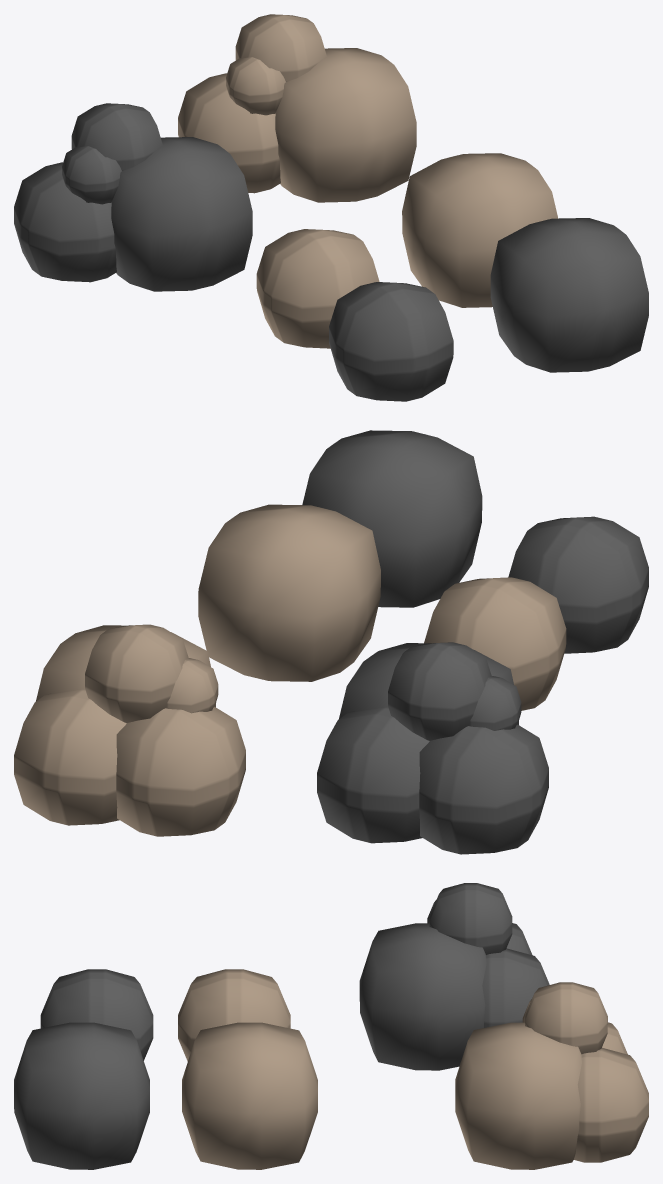
The model's file is rock_solid.fbx.
The picture shows the model from 3 angles, top to bottom: view 1: azimuth 30°, elevation 25°; view 2: azimuth 150°, elevation 25°; view 3: azimuth 270°, elevation 25°; orthographic projection. The views are drawn at different scales.
Visible parts, largest first — view 1: smal_rock10, smal_rock9, big_rock1, big_rock, smal_rock2, smal_rock; view 2: smal_rock9, smal_rock10, big_rock, big_rock1, smal_rock2, smal_rock; view 3: smal_rock9, smal_rock10, big_rock1, big_rock, smal_rock2, smal_rock.
Boxes of the visible parts, left/top/right/bottom form: smal_rock10: left=14, top=103, right=252, bottom=291; smal_rock9: left=178, top=14, right=416, bottom=202; big_rock1: left=490, top=218, right=648, bottom=372; big_rock: left=402, top=153, right=558, bottom=307; smal_rock2: left=329, top=282, right=453, bottom=401; smal_rock: left=256, top=229, right=379, bottom=348; smal_rock9: left=14, top=624, right=245, bottom=836; smal_rock10: left=317, top=642, right=548, bottom=854; big_rock: left=198, top=504, right=380, bottom=681; big_rock1: left=302, top=430, right=482, bottom=607; smal_rock2: left=508, top=516, right=648, bottom=653; smal_rock: left=424, top=577, right=566, bottom=710; smal_rock9: left=455, top=982, right=648, bottom=1169; smal_rock10: left=359, top=883, right=549, bottom=1070; big_rock1: left=14, top=1022, right=149, bottom=1169; big_rock: left=182, top=1022, right=317, bottom=1169; smal_rock2: left=40, top=969, right=153, bottom=1060; smal_rock: left=178, top=969, right=290, bottom=1061.
Size of the model in its own units: 18.44 by 7.22 by 26.76.
